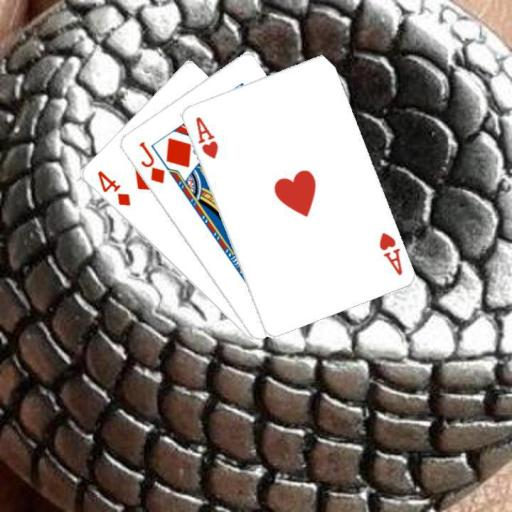4D: (93, 167, 132, 208)
AH: (375, 229, 404, 277), (192, 113, 220, 161)
JD: (135, 138, 167, 186)
